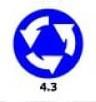road_sign: (14, 9, 82, 77)
